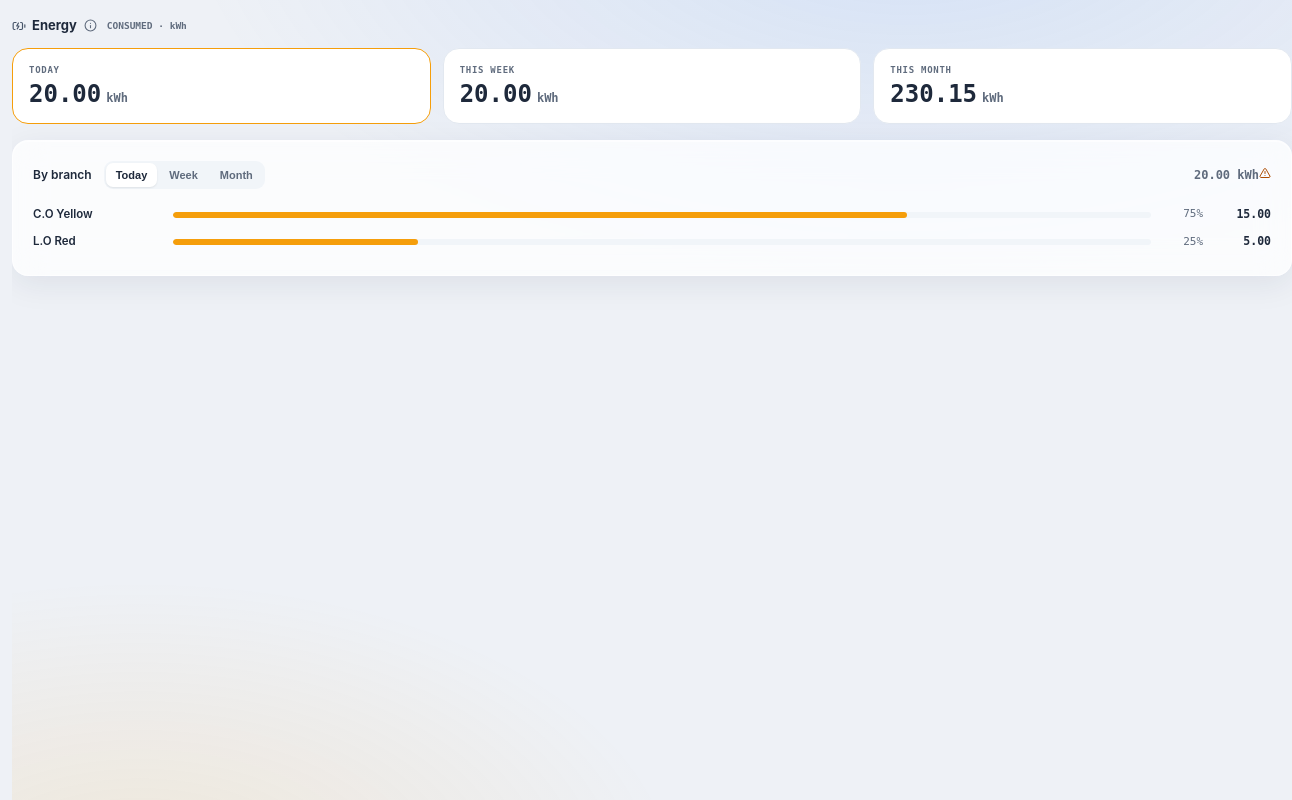
Test case: EnergySection — branch/total disagreement › reads each period against its own total, not one period against another
// The same 20.00 against the week's own 18.40 is +8.7%, inside what two derivations do.
What coordinates should you click on to do the following:
click the button "Week"
I would click on:
 (184, 175)
Its box is [159,163,208,187].
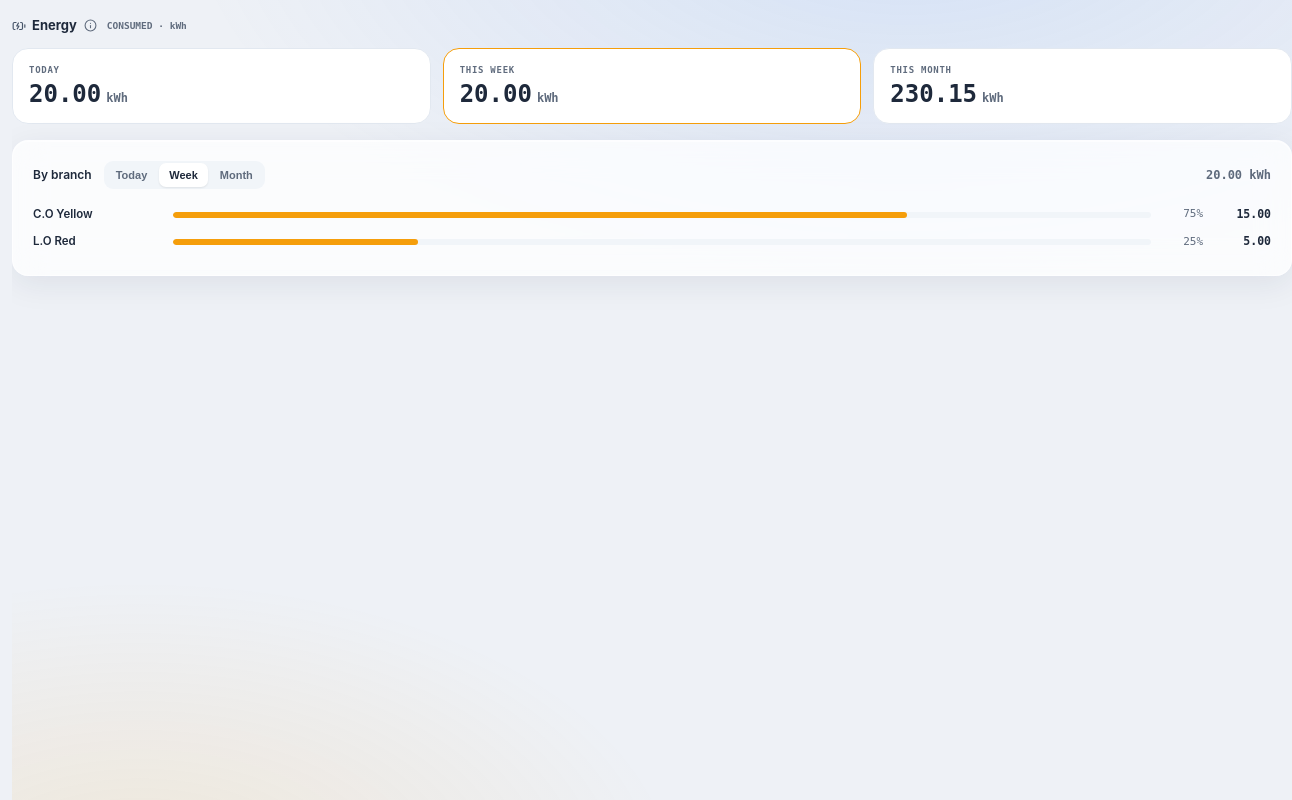
Result: the button with class "energy-check-mark" is gone
